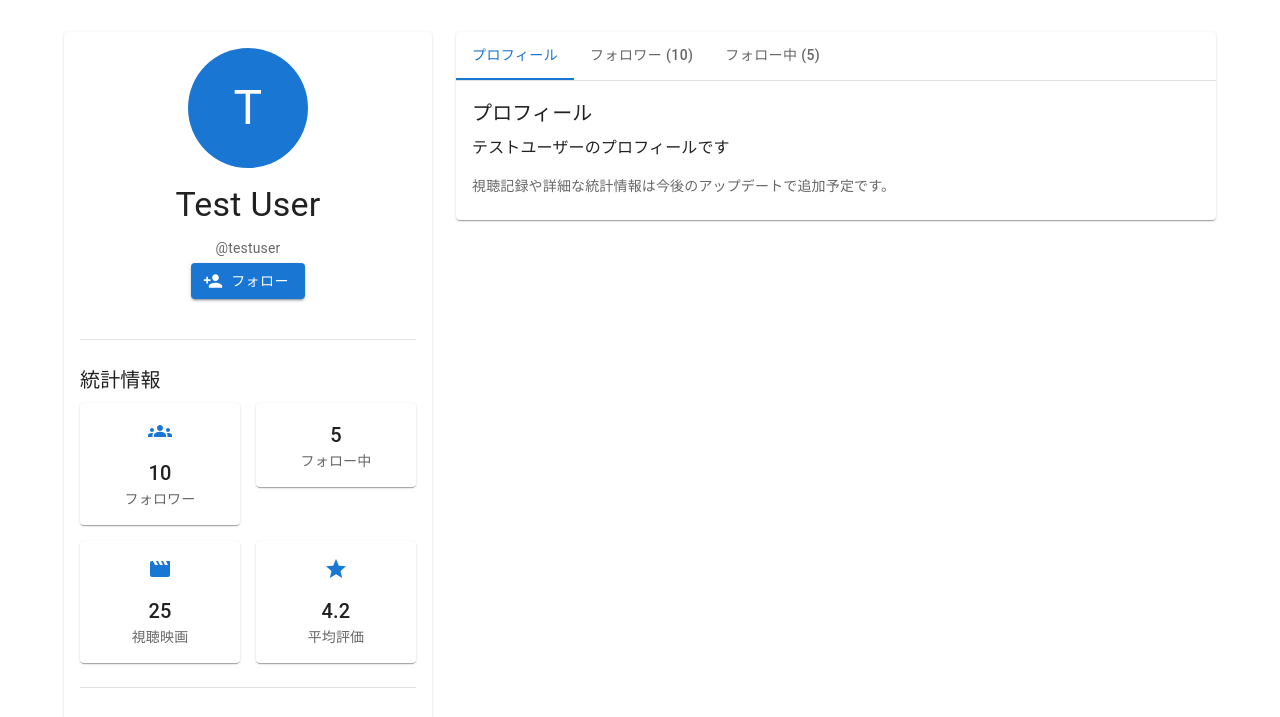
UserProfile › switches to followers tab
The width and height of the screenshot is (1280, 717).
Expected: the heading "Test User" is shown, [175,184,321,226]
Click the tab "フォロワー (10)" at (642, 56), box [574,32,709,80]
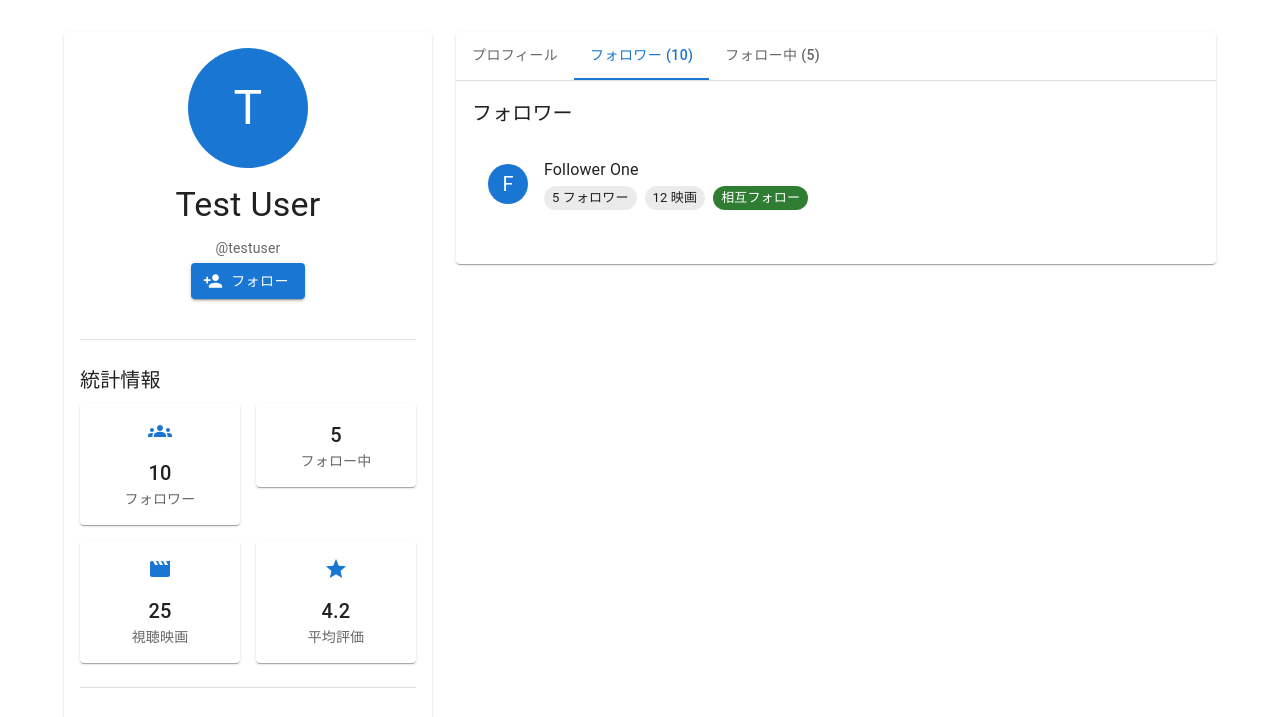
Now the text "Follower One" is shown, box [544,160,639,179]
